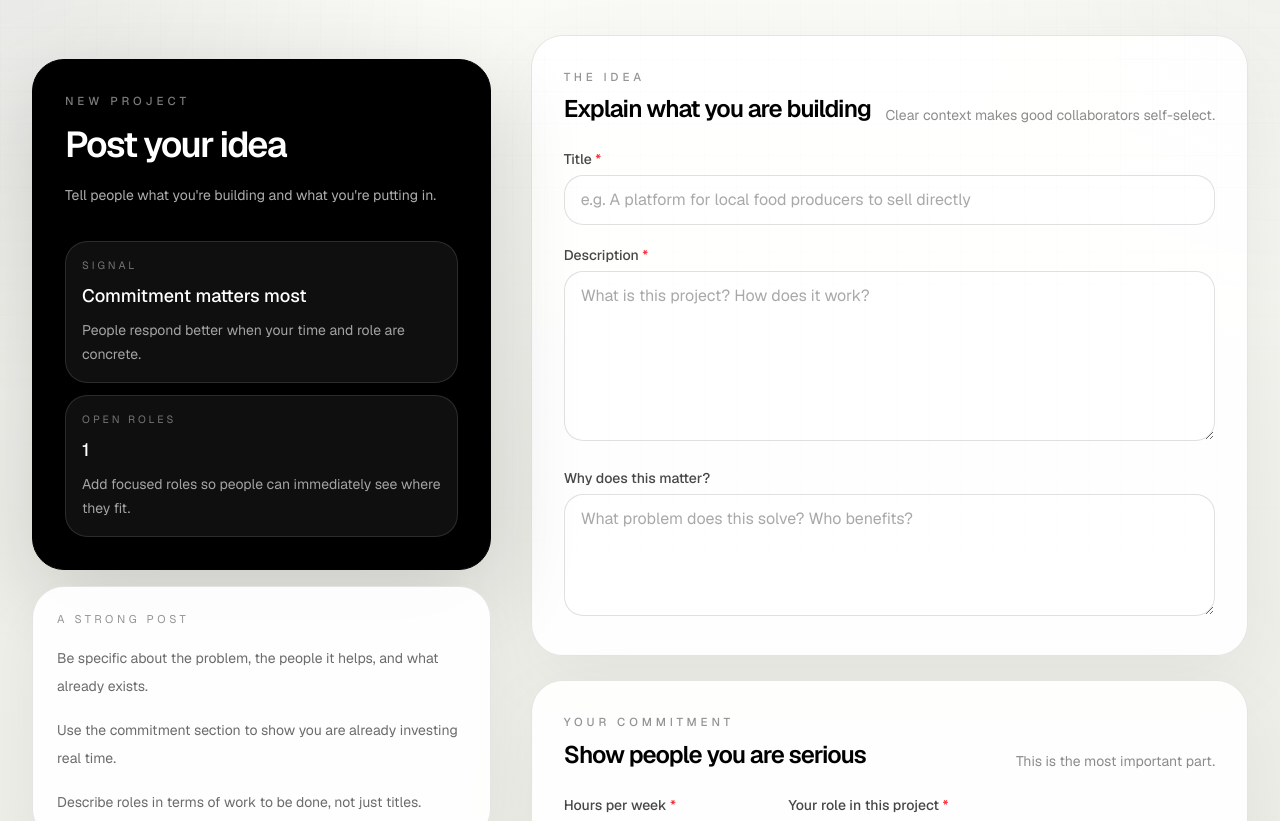
it: ProjectForm validation › shows error when title is too short
The width and height of the screenshot is (1280, 821).
Step 1. Type "Hi" into the field with placeholder "e.g. A platform for local food producers to sell directly" → (889, 200), box [564,175,1215,225]
(page scrolled)
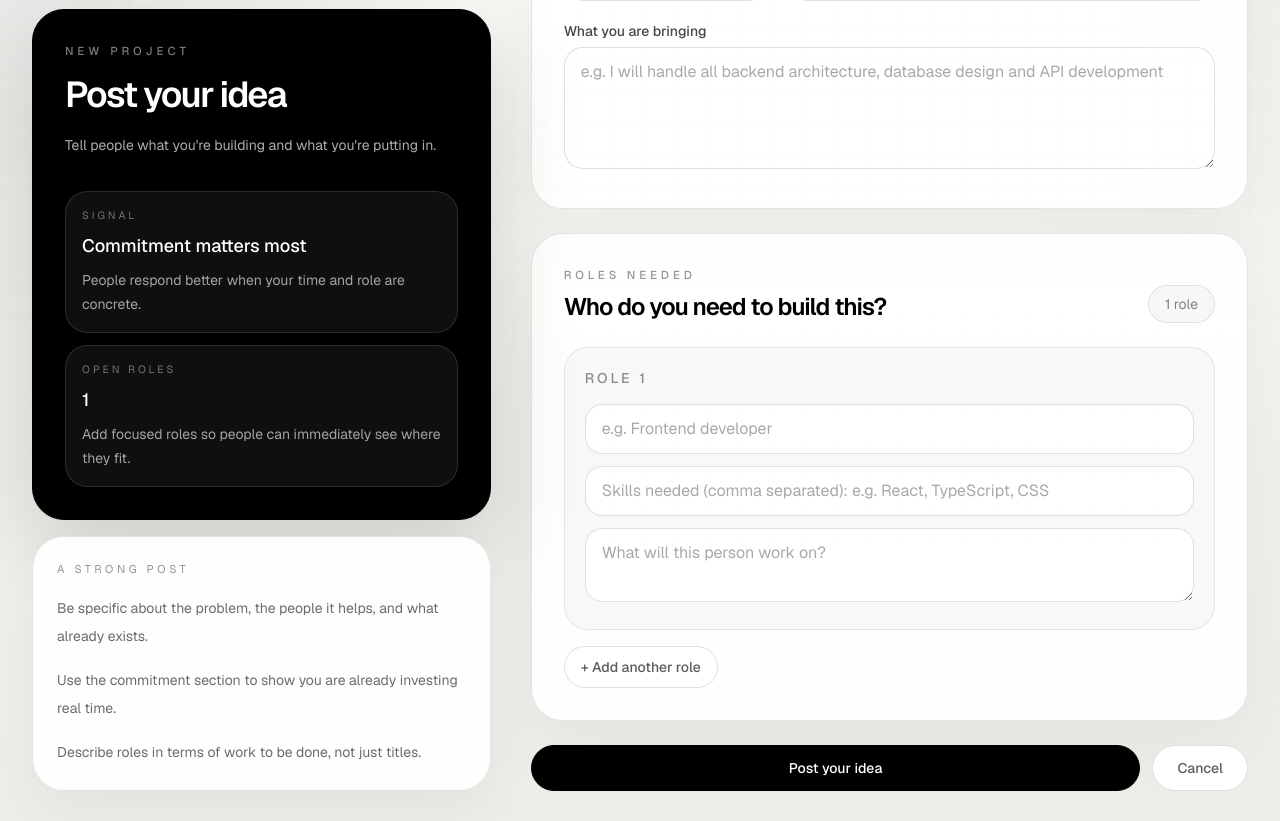
Step 2. Submit the form from the button "Post your idea", box [531,745,1140,791]
(page scrolled)
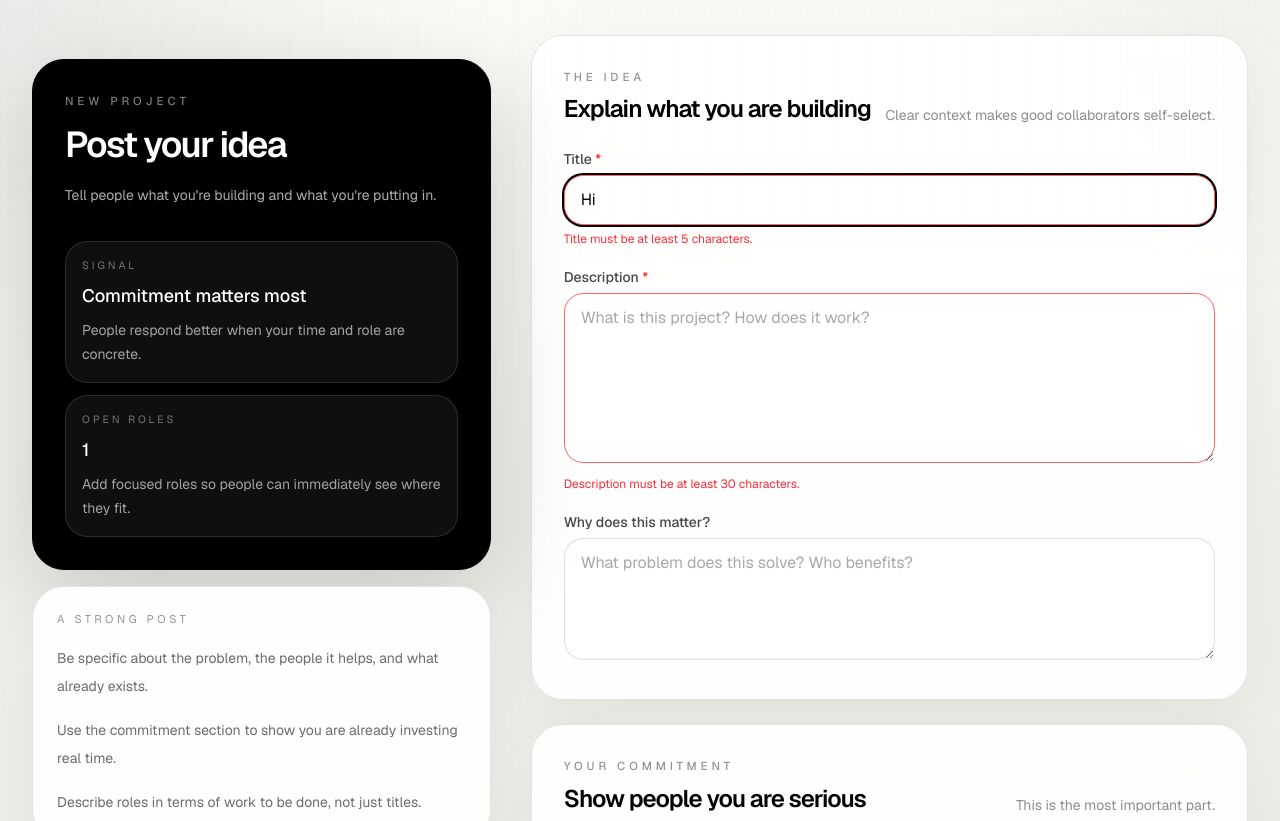
expect the text "Title must be at least 5 characters." is shown: met, box [564,231,752,247]
